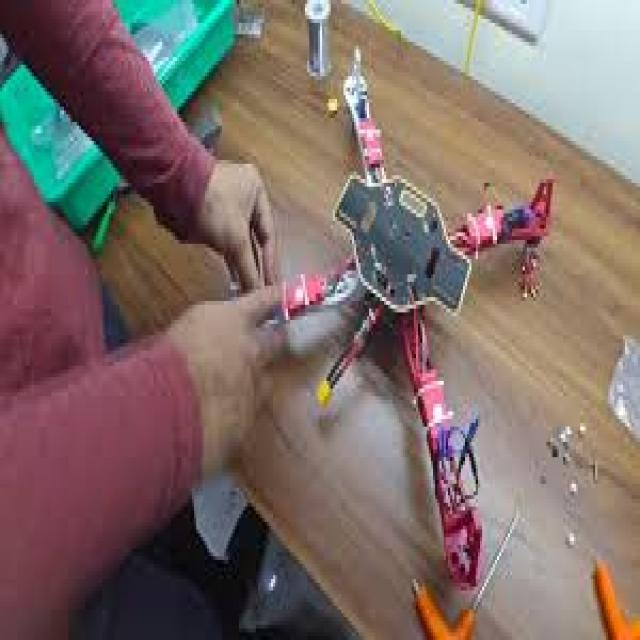drone: (257, 31, 565, 586)
